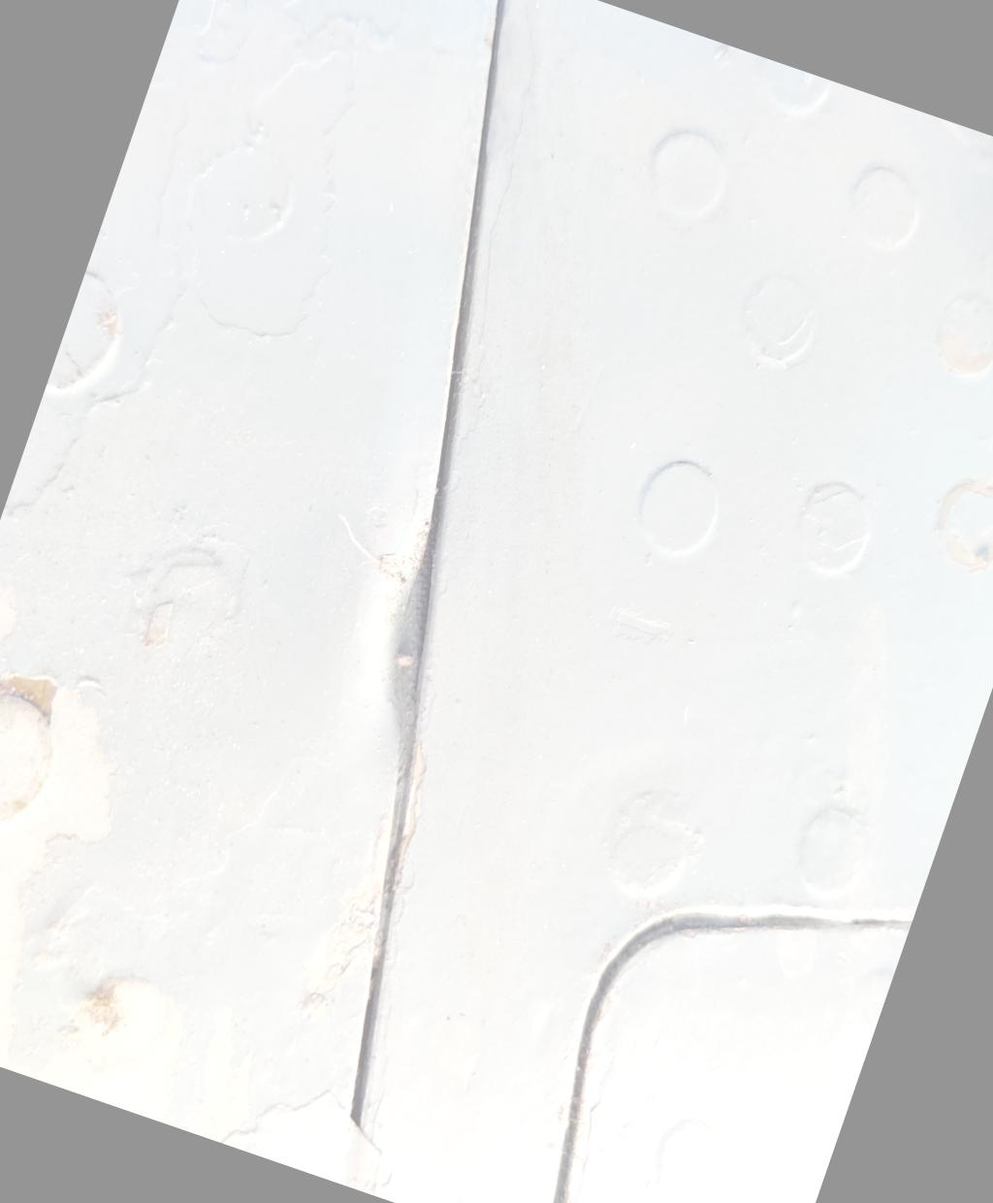dent: (301, 445, 539, 774)
